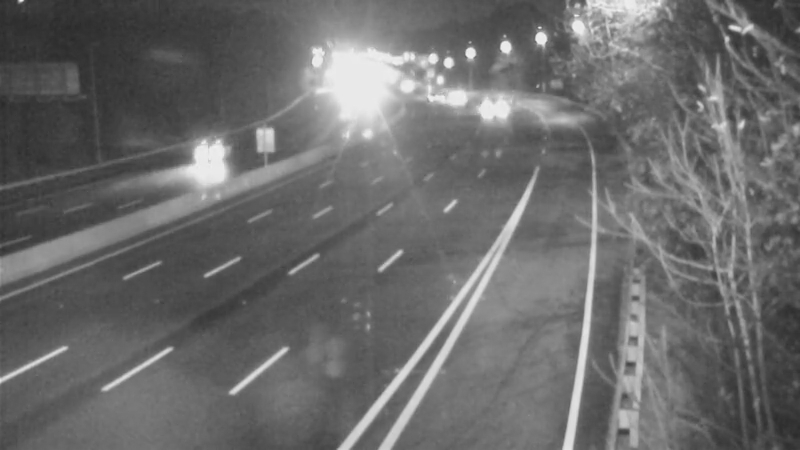vehicle: (172, 114, 252, 194), (467, 80, 517, 130)
